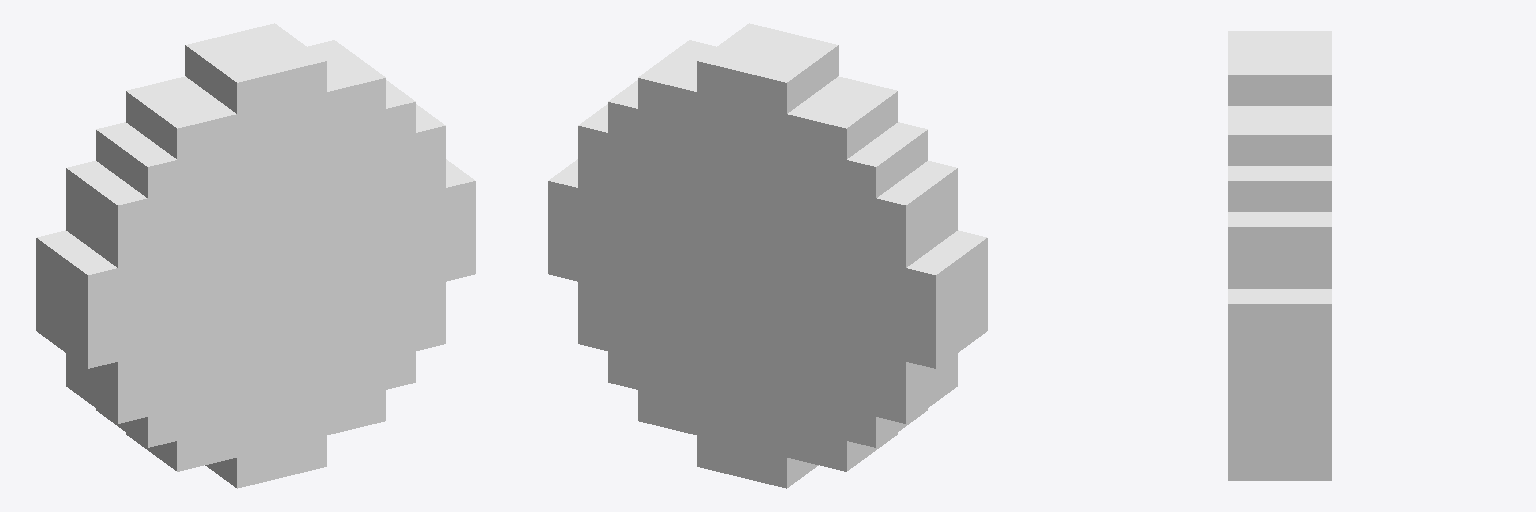
The model's file is gold.obj.
3 renders of one model, left to right at view 1: azimuth 30°, elevation 25°; view 2: azimuth 150°, elevation 25°; view 3: azimuth 270°, elevation 25°, orthographic.
Visible parts, largest first — view 1: object 1; view 2: object 1; view 3: object 1.
Part boxes in pixels (x1,y1,x2,y2): object 1: (36,23,475,488); object 1: (548,23,987,488); object 1: (1228,31,1331,480).
Bounding box in the file's own units: 1.3 × 1.3 × 0.3.